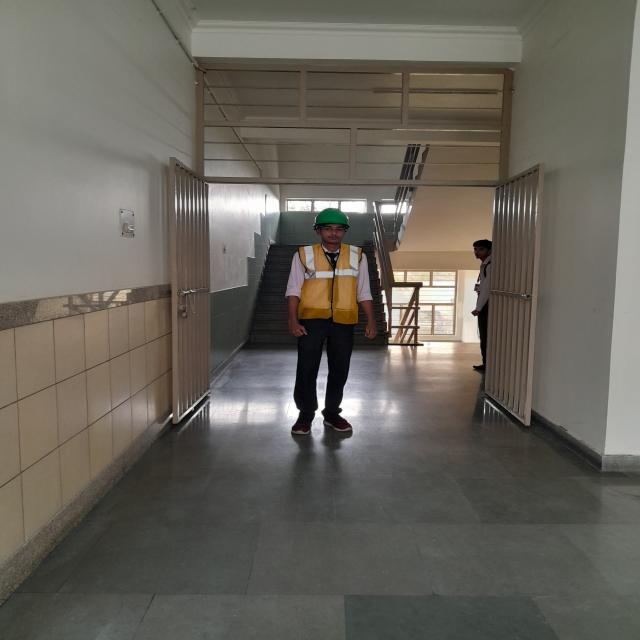safe: (288, 208, 376, 434)
unsafe: (472, 240, 491, 369)
